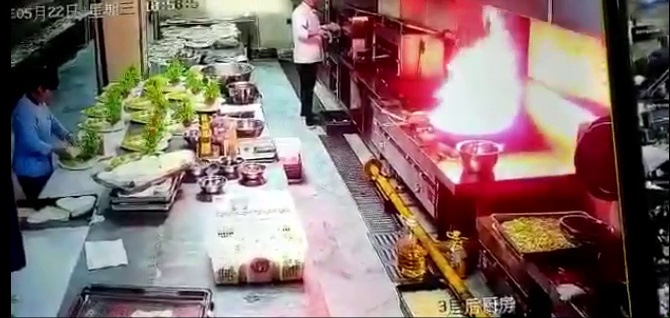fire: (442, 35, 525, 137)
